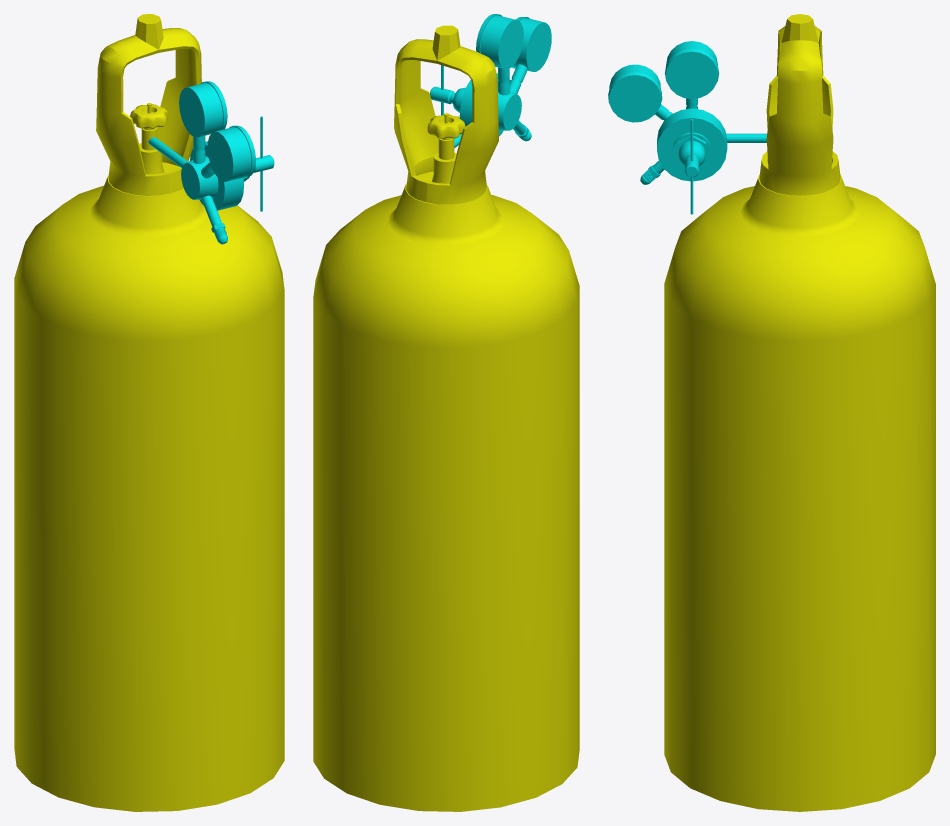
Rendered from seguranca-obj_cilindropequeno.fbx.
3 renders of one model, left to right at view 1: azimuth 30°, elevation 25°; view 2: azimuth 150°, elevation 25°; view 3: azimuth 270°, elevation 25°, orthographic.
Visible parts, largest first — view 1: Cilindro_Vermelho, polySurface30, polySurface41; view 2: Cilindro_Vermelho, polySurface30; view 3: Cilindro_Vermelho, polySurface30.
Boxes of the visible parts, x1,y1,x2,y2 form: Cilindro_Vermelho: (14, 14, 284, 811); polySurface30: (148, 81, 255, 244); polySurface41: (253, 116, 274, 211); Cilindro_Vermelho: (313, 25, 579, 811); polySurface30: (453, 14, 551, 147); Cilindro_Vermelho: (664, 14, 935, 811); polySurface30: (608, 41, 766, 184).
Size of the model in its own units: 7.72 by 23.08 by 9.32.
